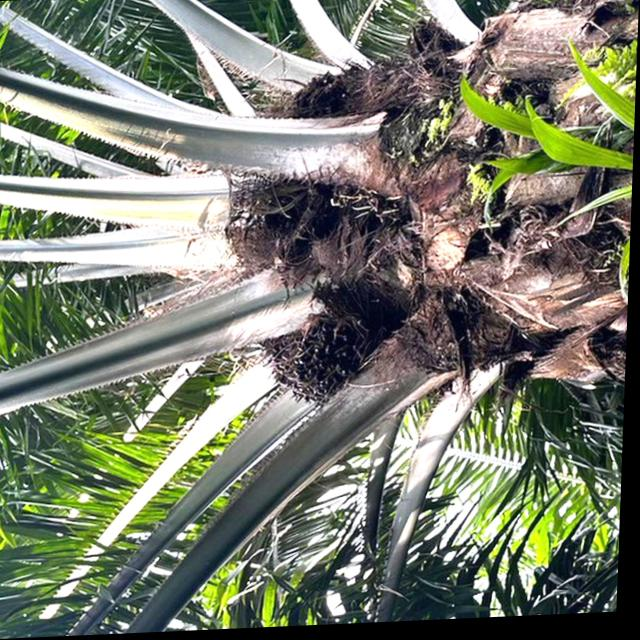almost: (282, 293, 389, 412)
